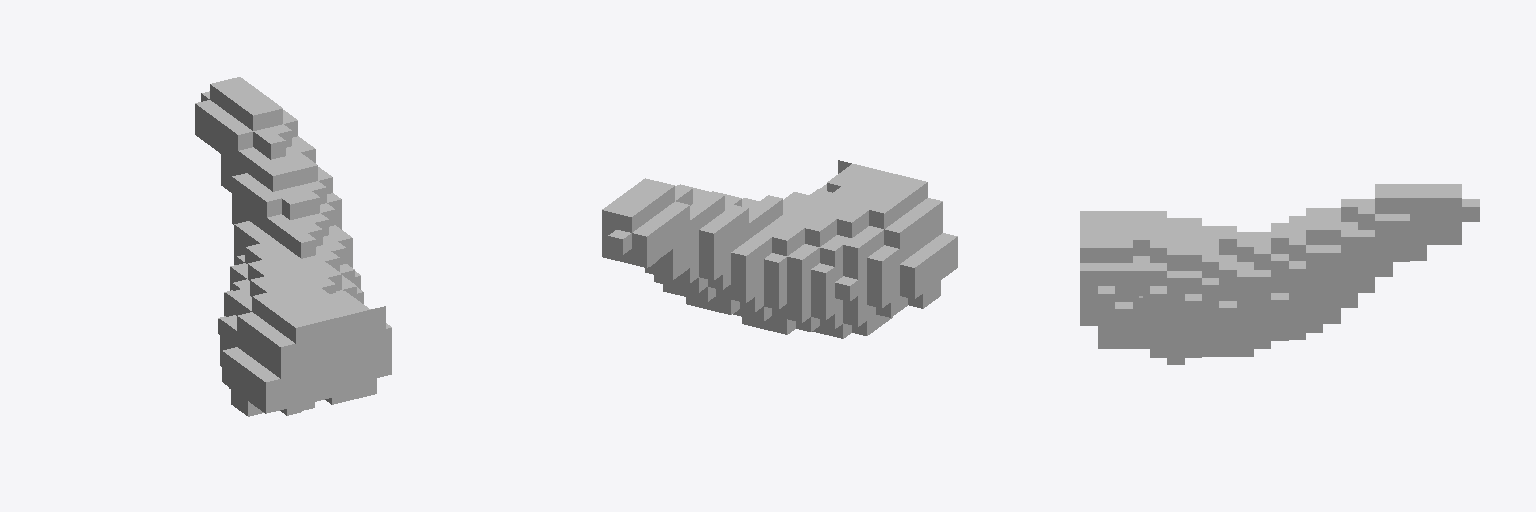
File: mineways_tri_tiny.obj
3 renders of one model, left to right at view 1: azimuth 30°, elevation 25°; view 2: azimuth 150°, elevation 25°; view 3: azimuth 270°, elevation 25°, orthographic.
Parts seen in each view (by area): view 1: mine_rtx__348_15_-313_to_365_28_-288; view 2: mine_rtx__348_15_-313_to_365_28_-288; view 3: mine_rtx__348_15_-313_to_365_28_-288.
Boxes of the visible parts, x1=… form: mine_rtx__348_15_-313_to_365_28_-288: x1=195, y1=77, x2=391, y2=416; mine_rtx__348_15_-313_to_365_28_-288: x1=602, y1=160, x2=957, y2=338; mine_rtx__348_15_-313_to_365_28_-288: x1=1080, y1=184, x2=1479, y2=364.
Bounding box in the file's own units: 1.2 × 1.2 × 2.3.